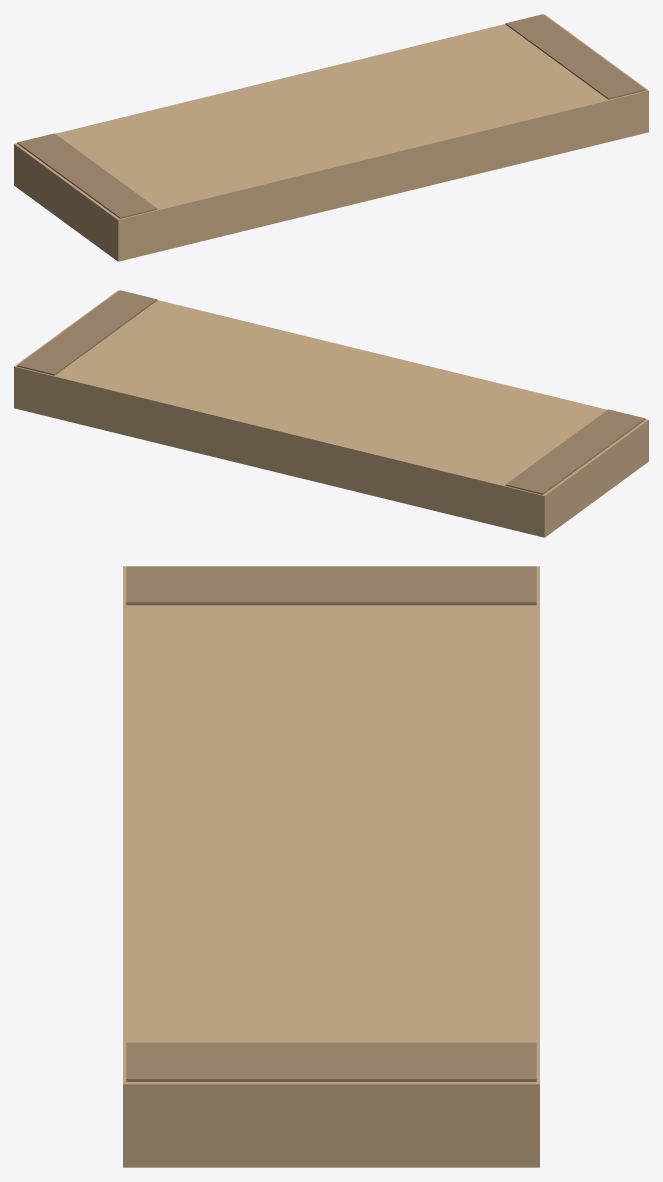
Rendered from bridge_plank_worn.glb.
3 views of the same model, one above another, from view 1: azimuth 30°, elevation 25°; view 2: azimuth 150°, elevation 25°; view 3: azimuth 270°, elevation 25° (orthographic). The views are drawn at different scales.
Visible parts, largest first — view 1: bridge_plank_worn; view 2: bridge_plank_worn; view 3: bridge_plank_worn.
Part boxes in pixels (left/top/right/bottom): bridge_plank_worn: left=14, top=14, right=648, bottom=261; bridge_plank_worn: left=14, top=290, right=648, bottom=537; bridge_plank_worn: left=123, top=566, right=539, bottom=1167.
Bounding box in the file's own units: 1 × 0.0775 × 0.34.
